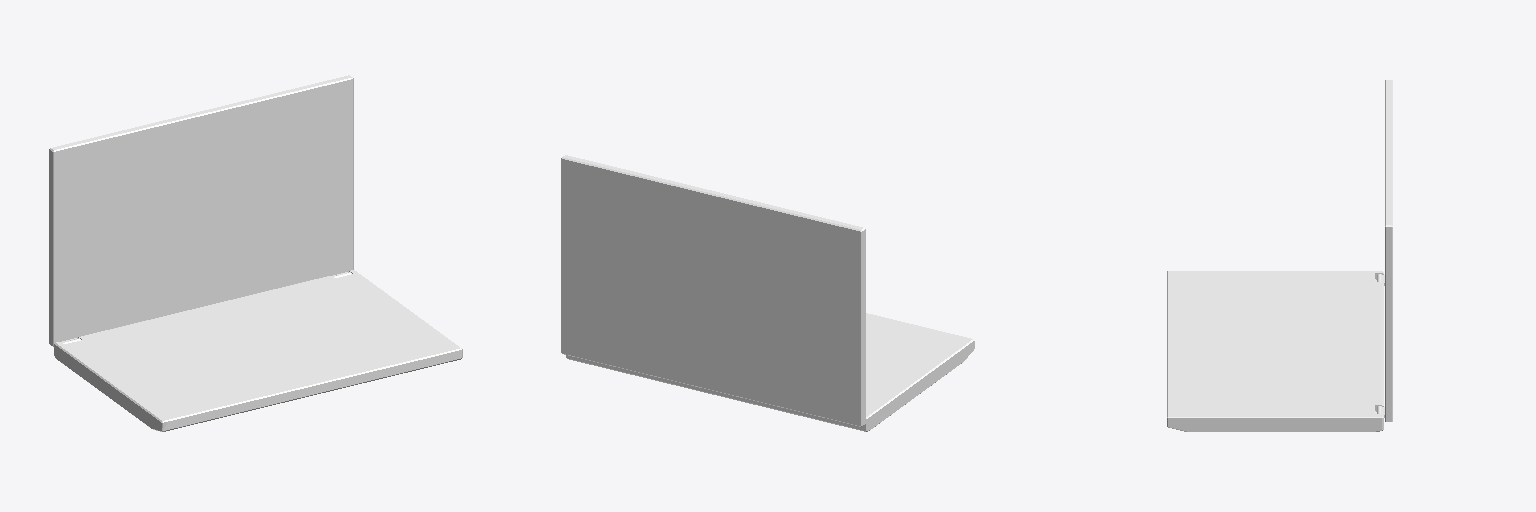
Rendered from laptop.obj.
3 renders of one model, left to right at view 1: azimuth 30°, elevation 25°; view 2: azimuth 150°, elevation 25°; view 3: azimuth 270°, elevation 25°, orthographic.
Parts seen in each view (by area): view 1: Screen_Plane.001, Base_Plane.003; view 2: Screen_Plane.001, Base_Plane.003; view 3: Base_Plane.003, Screen_Plane.001.
Part boxes in pixels (bbox=[...]): Screen_Plane.001: bbox=[49, 75, 353, 346]; Base_Plane.003: bbox=[54, 270, 462, 431]; Screen_Plane.001: bbox=[561, 155, 865, 426]; Base_Plane.003: bbox=[566, 313, 974, 431]; Base_Plane.003: bbox=[1167, 271, 1383, 431]; Screen_Plane.001: bbox=[1377, 80, 1392, 421].
Bounding box in the file's own units: 0.3199 × 0.2101 × 0.2086.